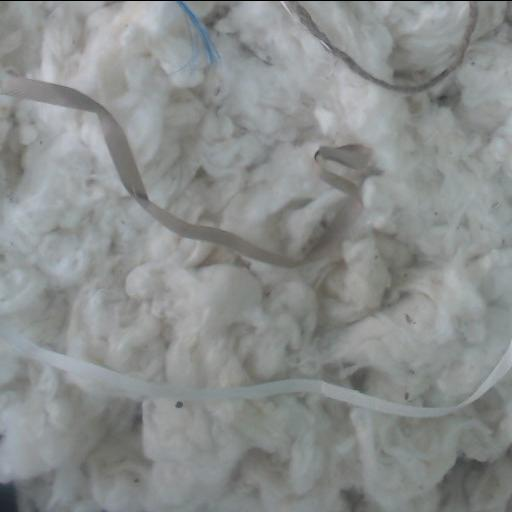cotton: (0, 1, 511, 407), (0, 344, 511, 512), (300, 1, 469, 84)
jute: (280, 1, 476, 93)
thread: (0, 77, 361, 267), (0, 324, 511, 417), (176, 1, 216, 63), (315, 146, 368, 169)
